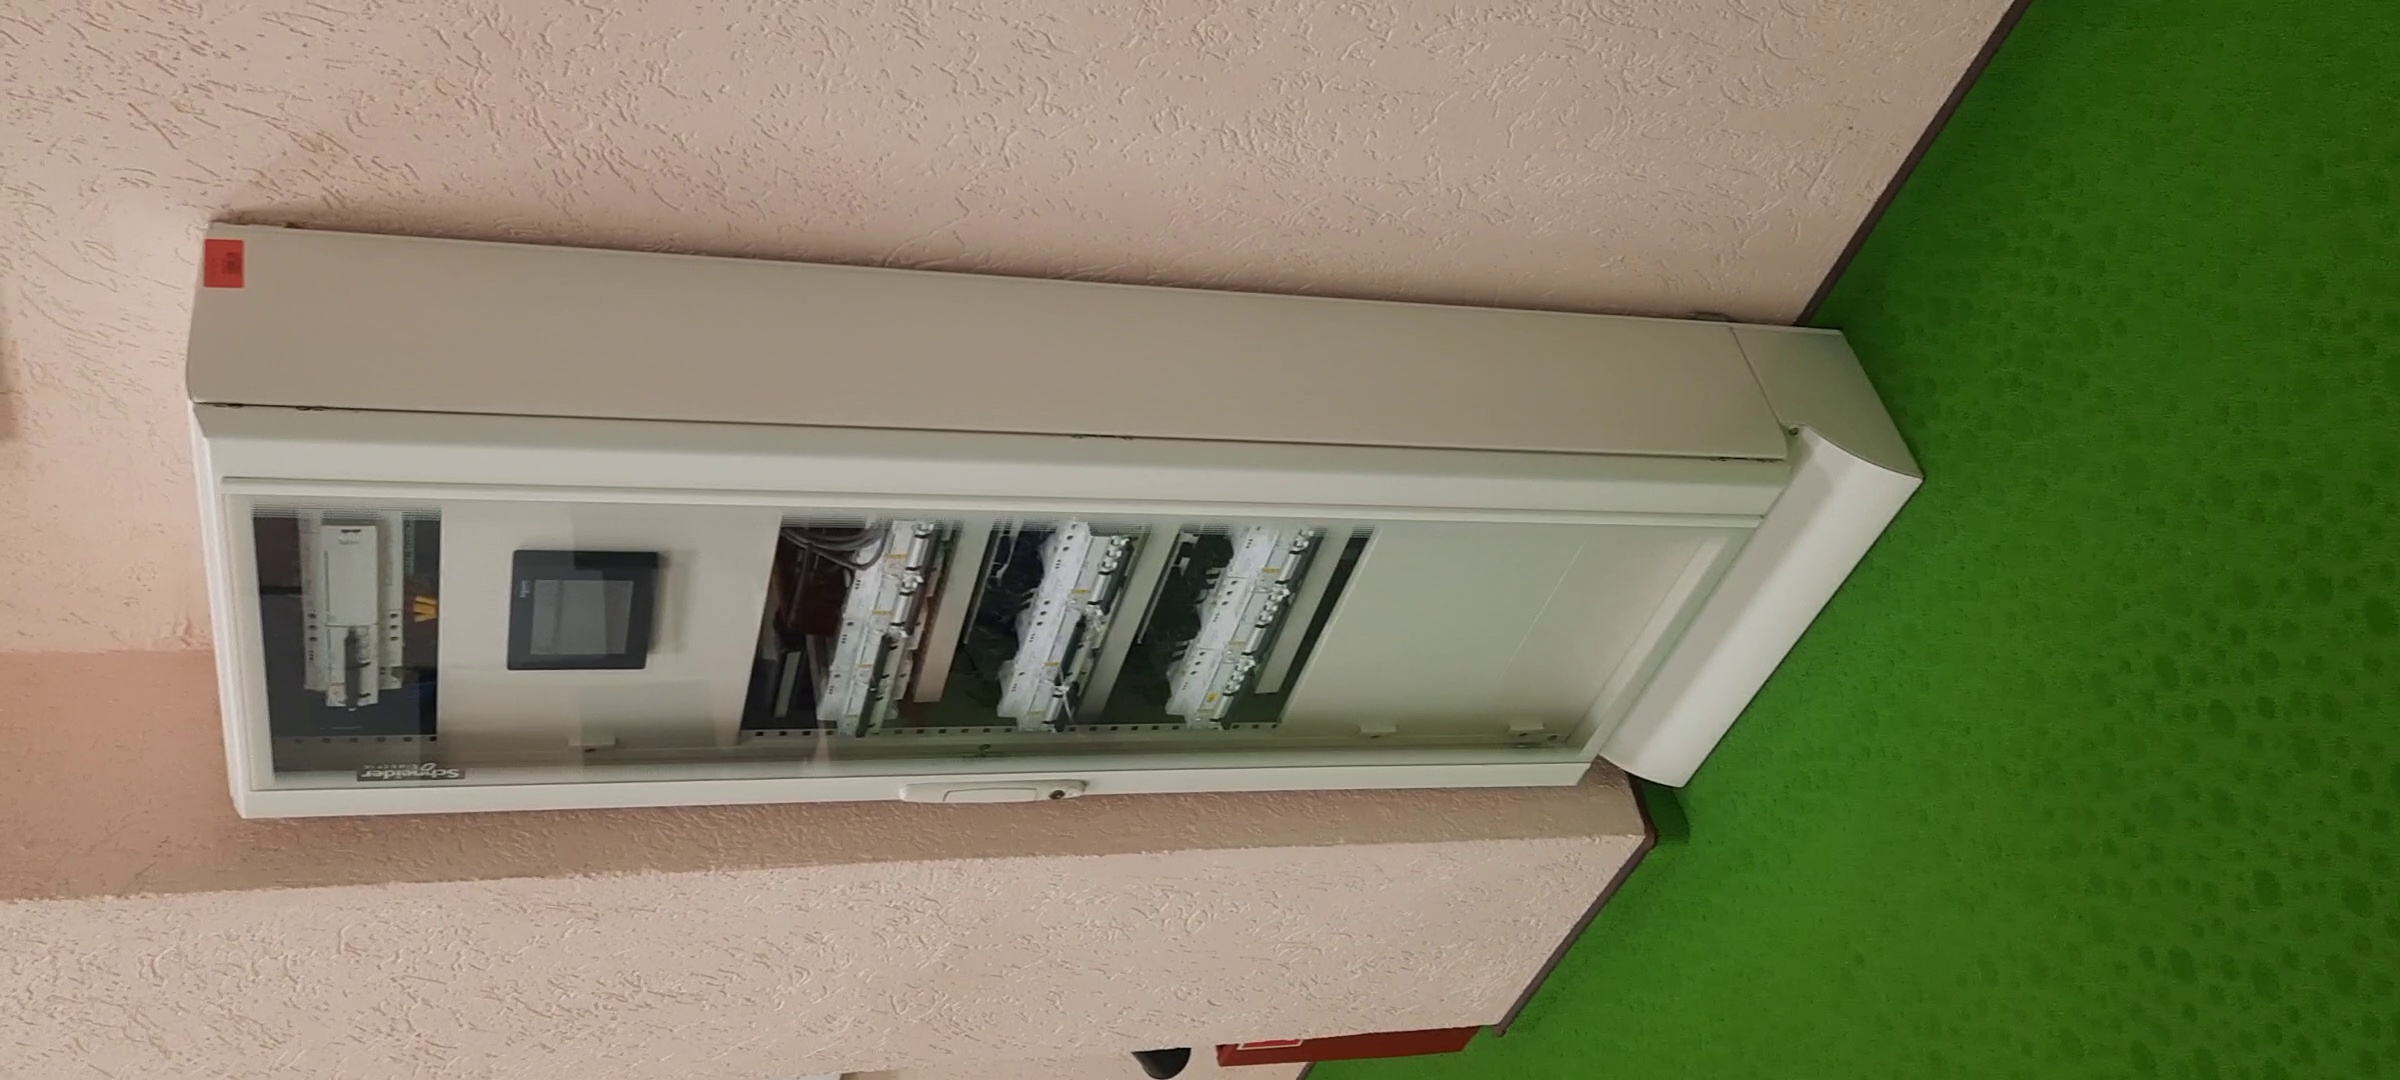smart_stand: (178, 236, 1933, 821)
